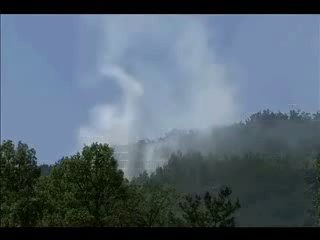smoke: (79, 108, 320, 188), (99, 12, 254, 107)
